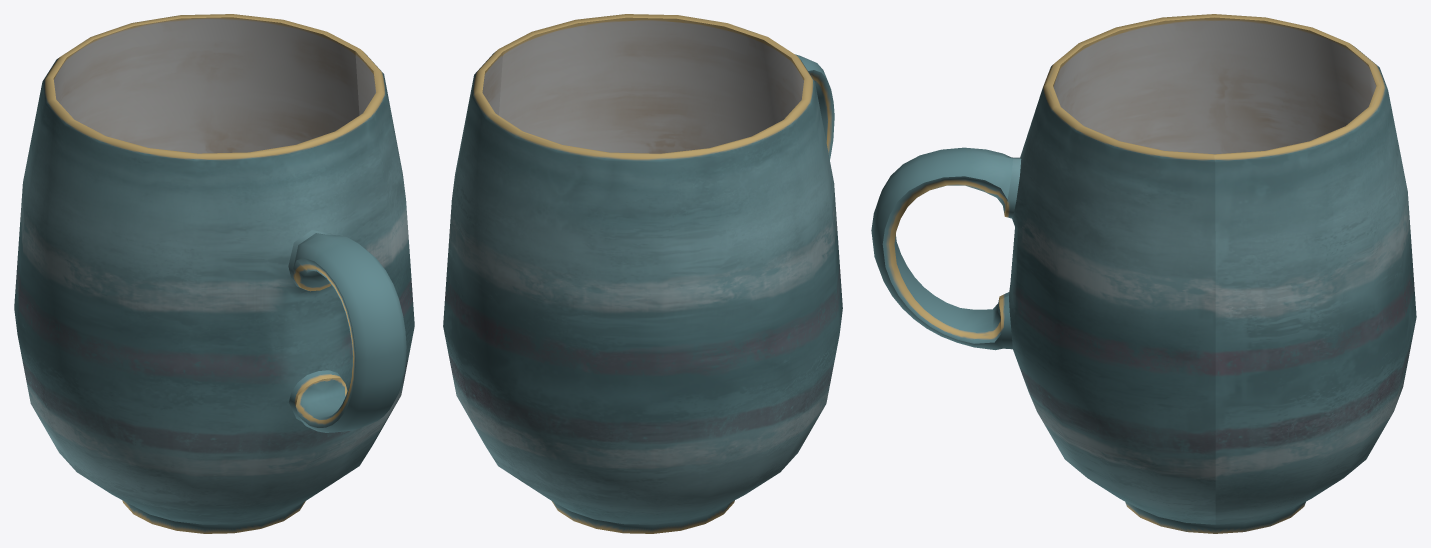
The model's file is SM_Mug.fbx.
3 views of the same model, side by side, from view 1: azimuth 30°, elevation 25°; view 2: azimuth 150°, elevation 25°; view 3: azimuth 270°, elevation 25° (orthographic).
Visible parts, largest first — view 1: SM_Mug_LOD0; view 2: SM_Mug_LOD0; view 3: SM_Mug_LOD0.
Boxes of the visible parts, box(x1,y1,x2,y2) form: SM_Mug_LOD0: box(14, 14, 414, 533); SM_Mug_LOD0: box(443, 14, 842, 533); SM_Mug_LOD0: box(871, 14, 1416, 533).
Bounding box in the file's own units: 12.39 × 16.8 × 13.99.
